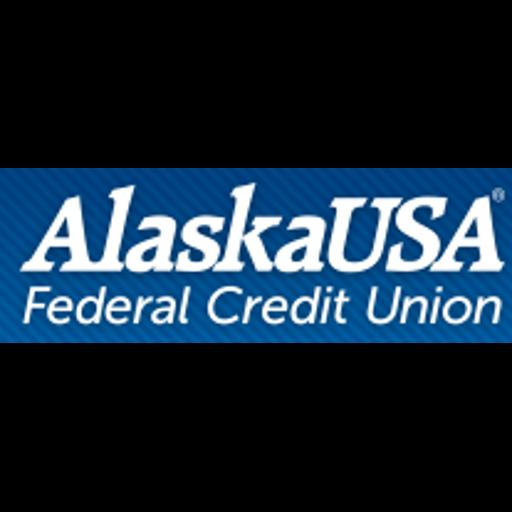Alaska USA Federal Credit Union: (0, 168, 512, 343)
